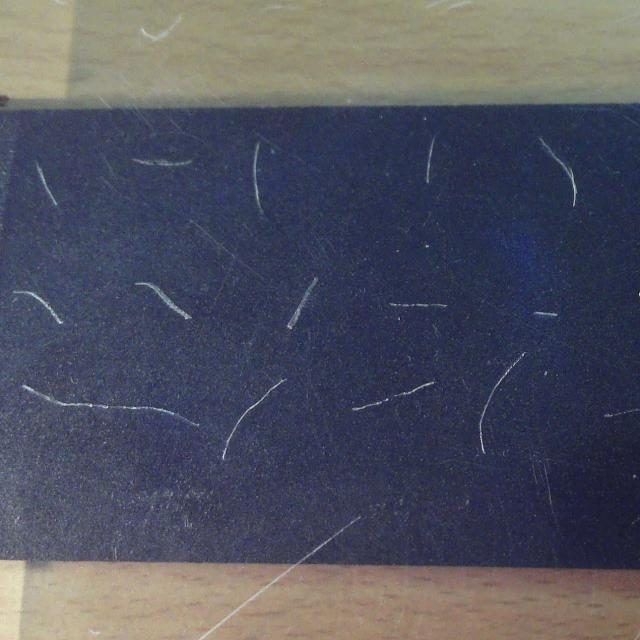defect: (26, 386, 201, 429), (473, 353, 527, 456), (221, 378, 288, 461), (296, 516, 362, 563), (539, 136, 580, 207), (353, 379, 437, 410), (135, 281, 199, 318), (10, 285, 65, 327), (286, 274, 322, 332), (247, 141, 272, 219), (32, 162, 60, 209), (132, 154, 196, 170), (423, 135, 440, 186), (391, 299, 449, 311), (606, 405, 638, 416), (535, 309, 559, 320)
